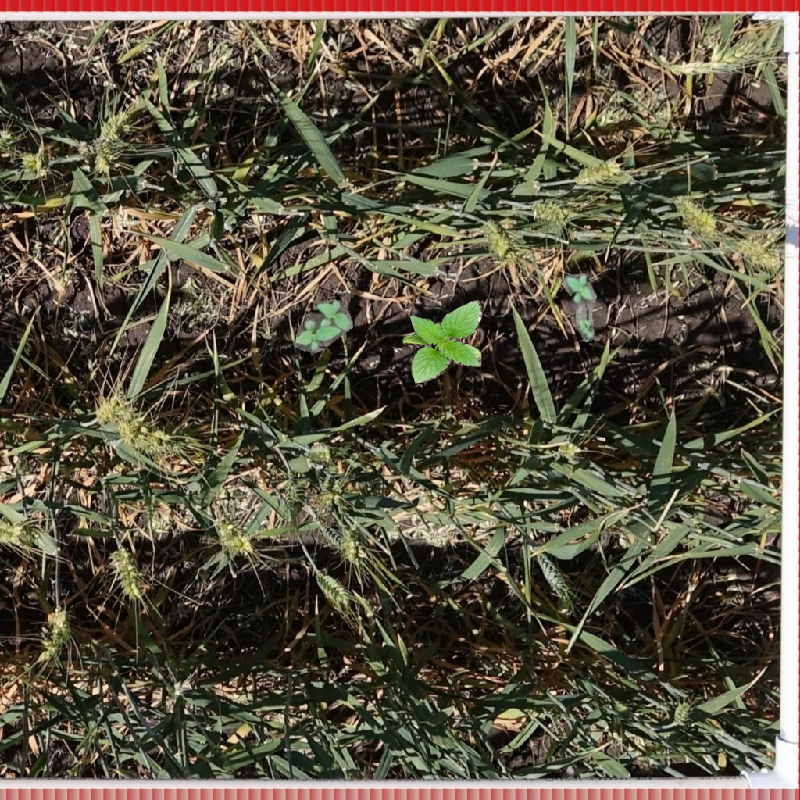spikelet: (533, 548, 576, 602), (107, 543, 147, 600), (672, 192, 719, 236), (36, 605, 73, 660), (710, 37, 769, 70), (94, 109, 132, 158), (736, 233, 782, 271), (333, 519, 371, 563), (313, 568, 352, 609), (573, 155, 626, 185), (214, 518, 255, 556), (529, 196, 575, 225), (94, 393, 133, 427), (480, 219, 510, 257), (416, 520, 455, 547), (302, 439, 334, 469), (1, 514, 30, 547), (19, 148, 50, 178), (595, 105, 630, 125), (555, 438, 584, 462), (669, 698, 693, 726)
weed: (402, 300, 482, 384), (285, 291, 360, 368), (562, 273, 597, 342)
